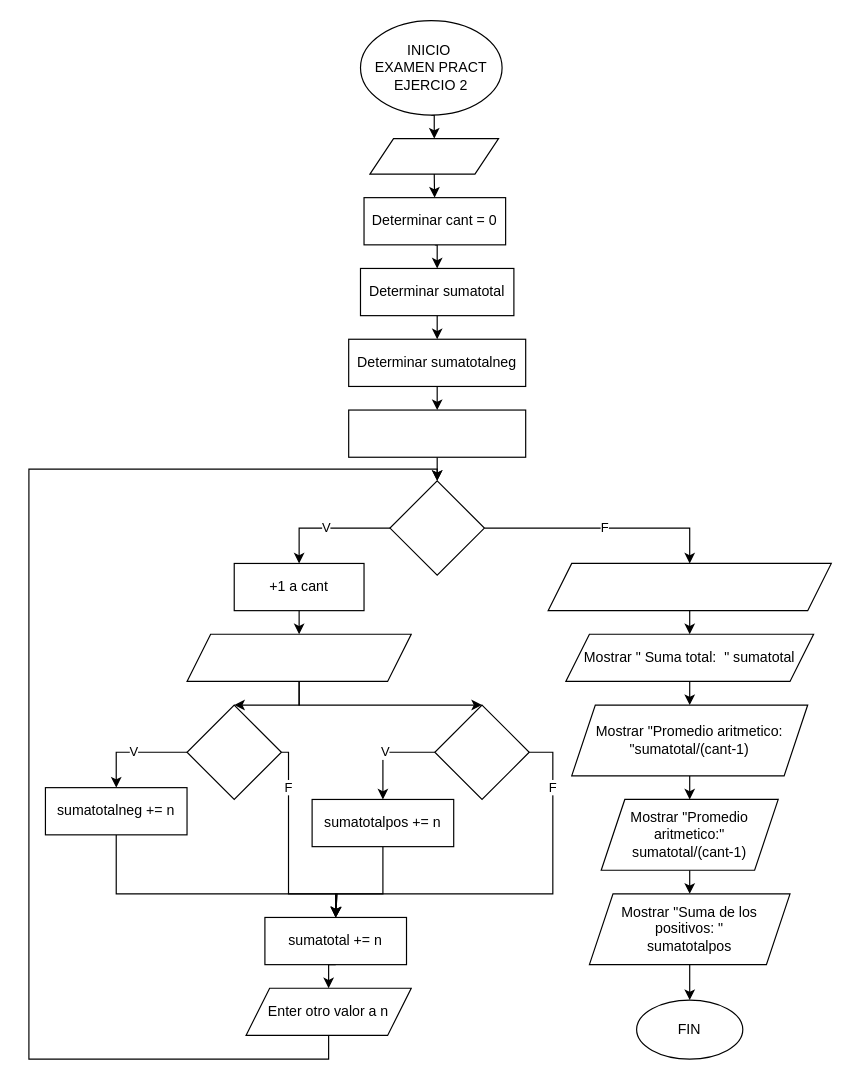
Some shapes in this 852 by 1089 pixel diagram are drawn without their labels. Here are the shapes that lost their labels. From the top down, the centre of each, then its label:
(x=434, y=155): Enter n
(x=437, y=433): Determinar sumatotalpos
(x=436, y=527): n != 0 ?
(x=689, y=586): Mostrar "Numeros ingresados: "cant-1
(x=298, y=657): Mostrar " Numero " cant " : "
(x=233, y=751): n < 0 ?
(x=481, y=751): n > 0 ?
